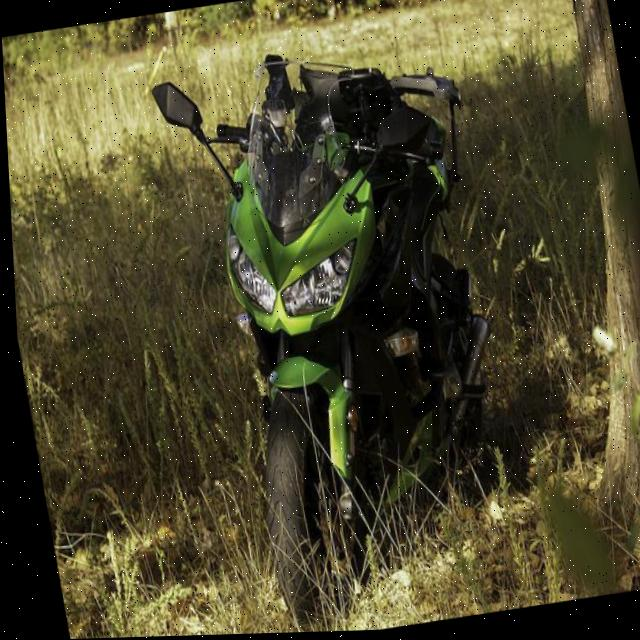motorcycle: (140, 25, 554, 636)
